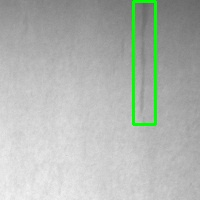inclusion: (133, 1, 155, 124)
